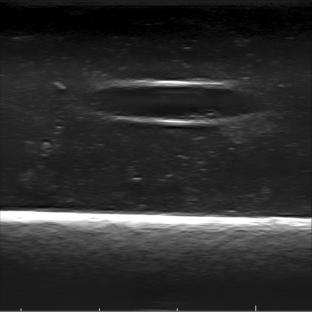vessel: (82, 79, 269, 126)
